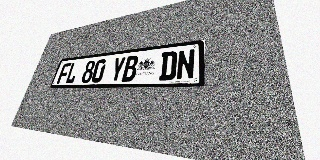0: (90, 59, 107, 83)
8: (80, 60, 97, 83)
B: (121, 55, 139, 82)
D: (159, 51, 178, 81)
F: (56, 63, 72, 84)
L: (65, 62, 80, 84)
N: (176, 49, 195, 80)
Y: (109, 56, 126, 82)
